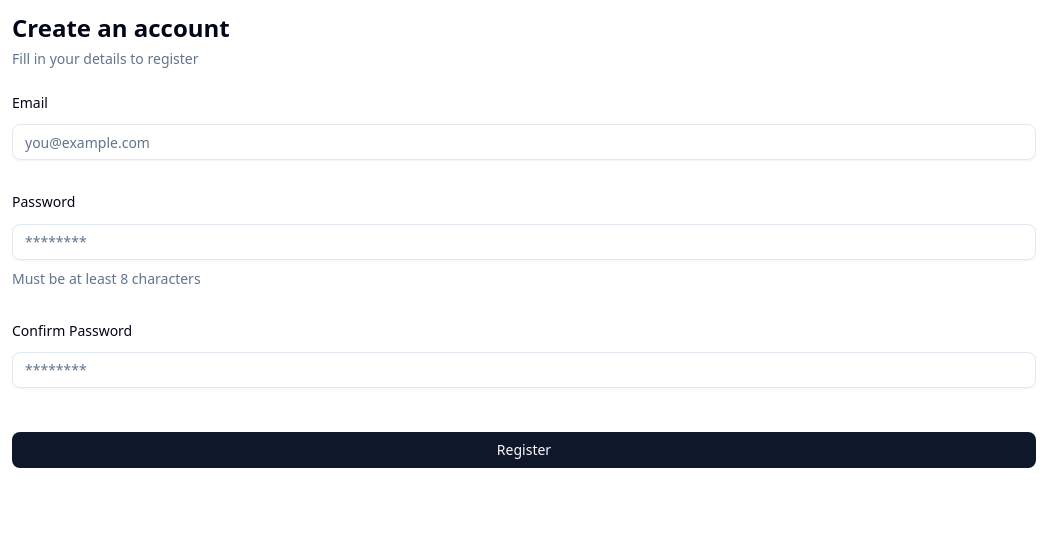
RegisterForm › shows validation errors when submitting empty form
Click the button "Register" at (524, 450), box [12, 432, 1036, 468]
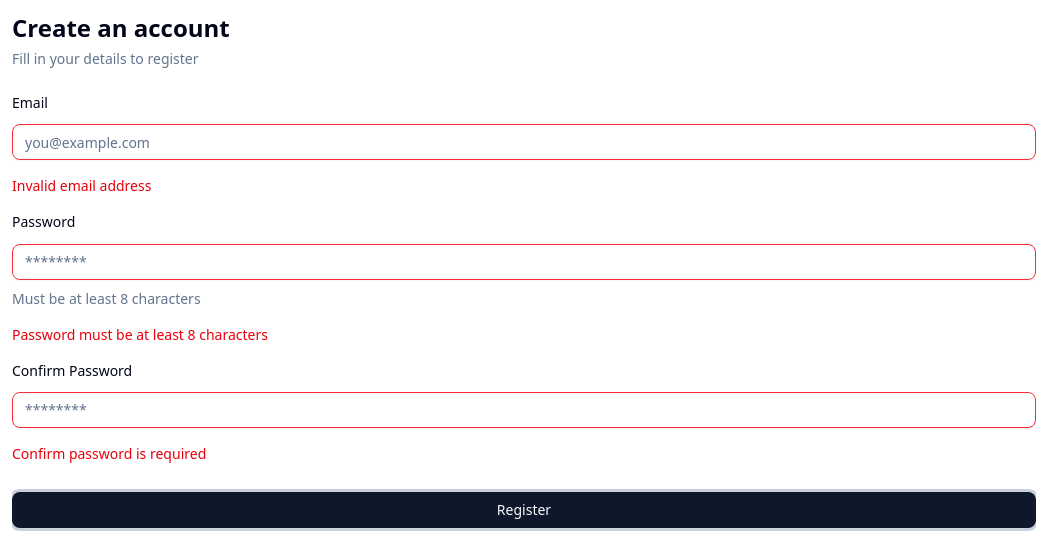
Expected: the text "Invalid email address" is shown, [12, 176, 151, 195]
Expected: the text "Password must be at least 8 characters" is shown, [12, 324, 268, 344]
Expected: the text "Confirm password is required" is shown, [12, 444, 206, 463]
